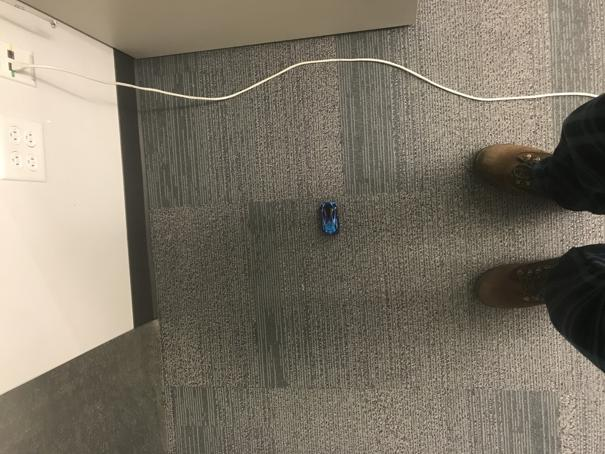Shock: (318, 199, 342, 236)
